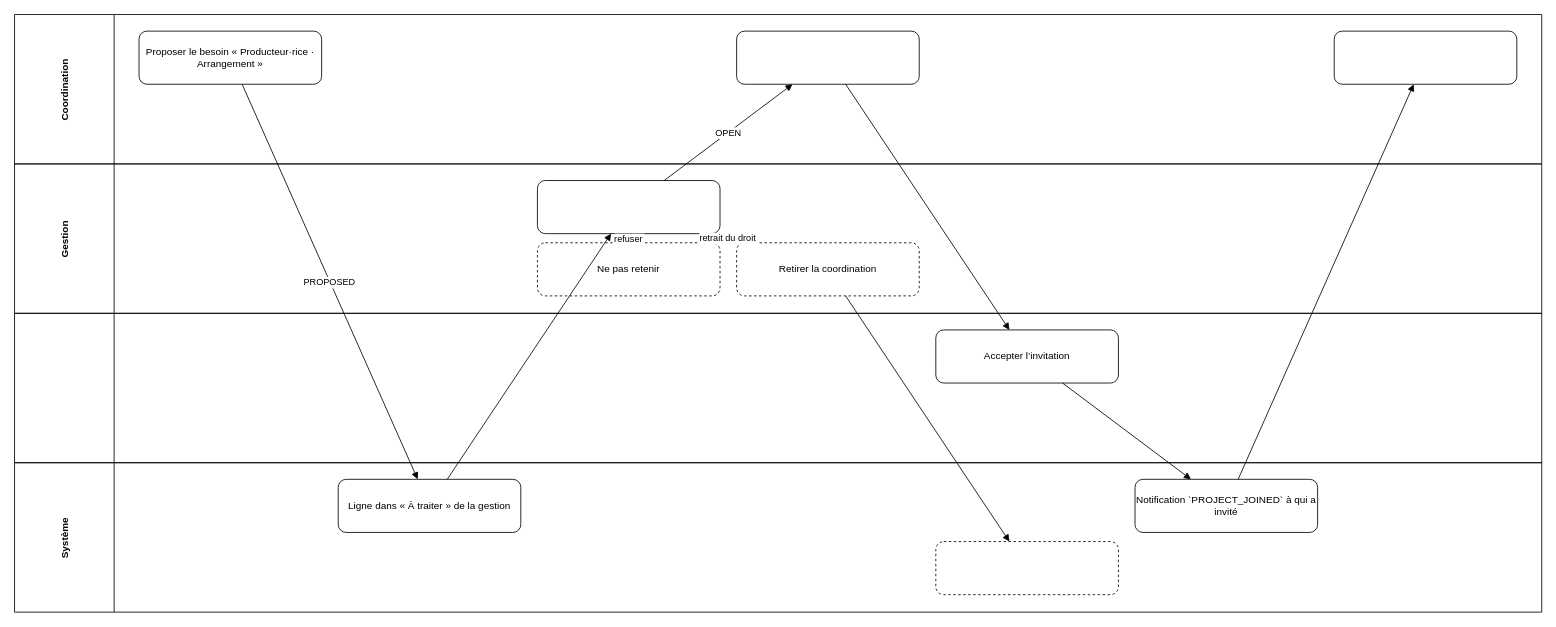
This 1556x627 diagram has some shape labels left out. The shapes that lost their labels are listed below. From the top down, each one's box as (x1, y1, x2, y2) in pixels, then its label:
(736, 30, 919, 84): Inviter une productrice connue
(1333, 30, 1517, 84): Marquer le besoin pourvu
(537, 180, 720, 234): Ouvrir ce besoin (après retouche éventuelle)
(14, 312, 1542, 463): Ingé son
(935, 541, 1118, 595): Propositions en attente annulées
